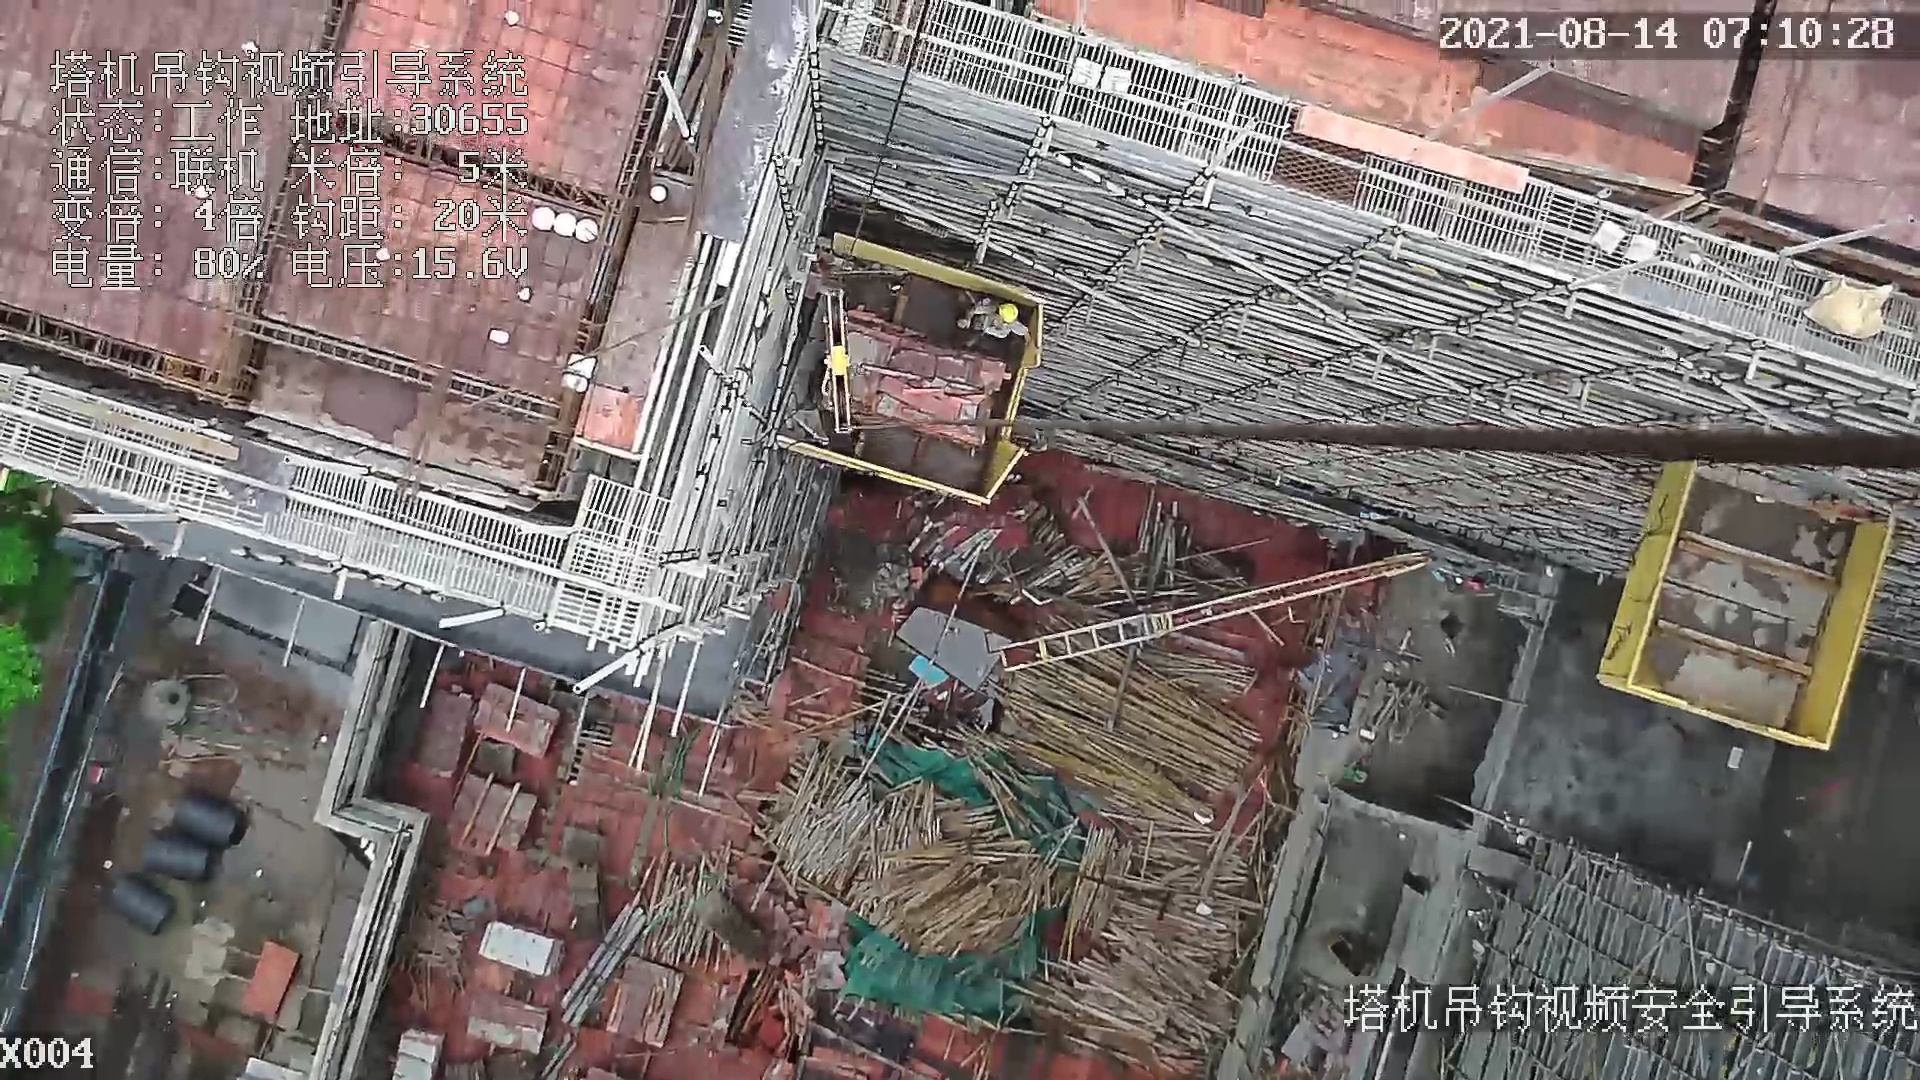helmet: (997, 301, 1019, 325)
hook: (810, 286, 863, 444)
person: (963, 291, 1035, 351)
